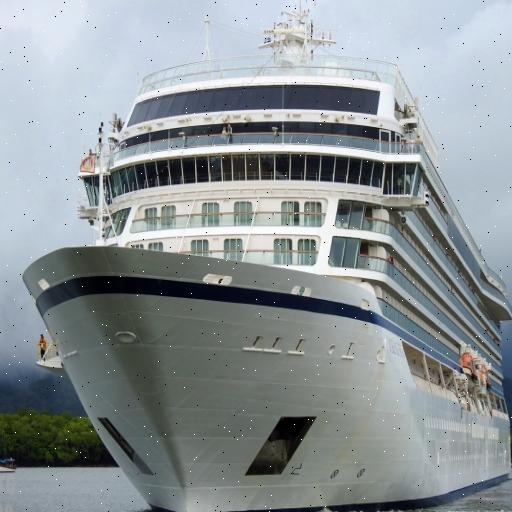cruises: (18, 1, 512, 512)
